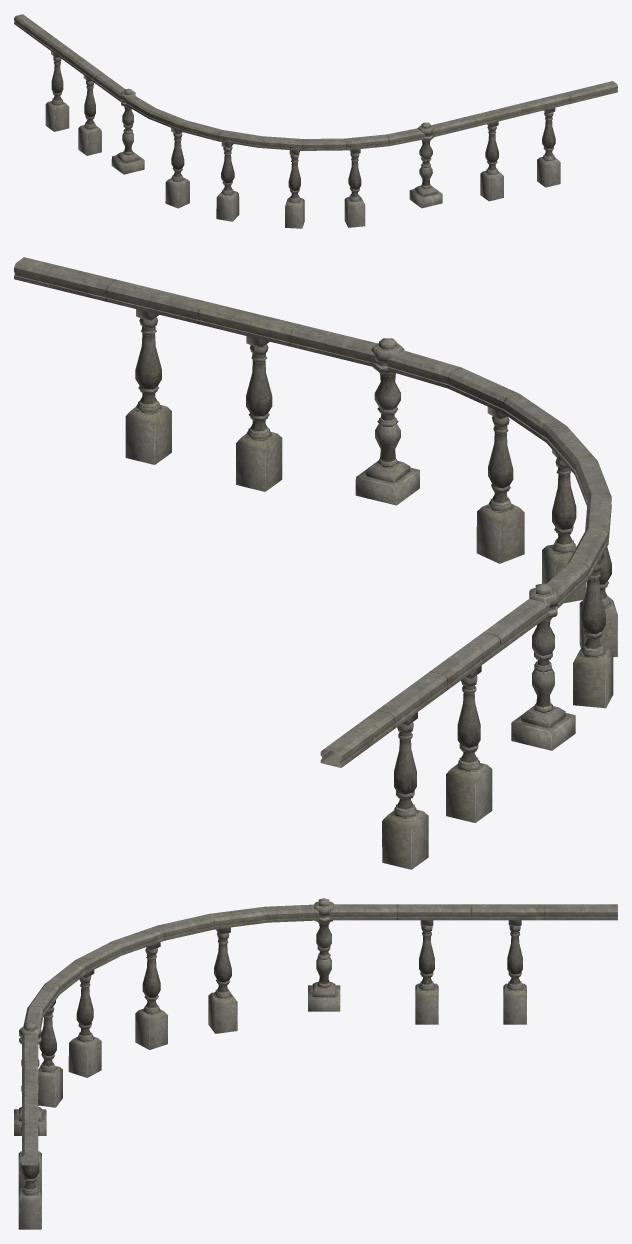
File: Railing02_1.fbx
The picture shows the model from 3 angles, top to bottom: view 1: azimuth 30°, elevation 25°; view 2: azimuth 150°, elevation 25°; view 3: azimuth 270°, elevation 25°; orthographic projection. The views are drawn at different scales.
Visible parts, largest first — view 1: Railing02_1; view 2: Railing02_1; view 3: Railing02_1.
Part boxes in pixels (box(x1,y1,x2,y2)): Railing02_1: box(14, 14, 617, 228); Railing02_1: box(14, 257, 617, 869); Railing02_1: box(14, 898, 617, 1229).
Bounding box in the file's own units: 514 × 114 × 514.
